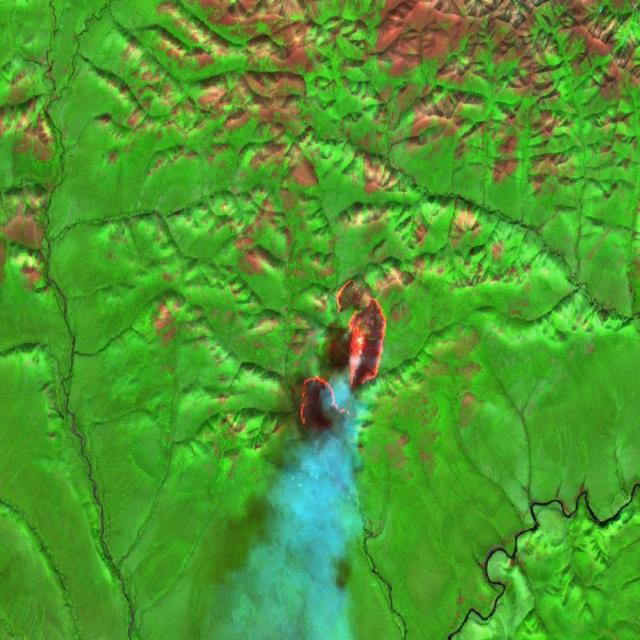fire: (296, 277, 388, 442)
